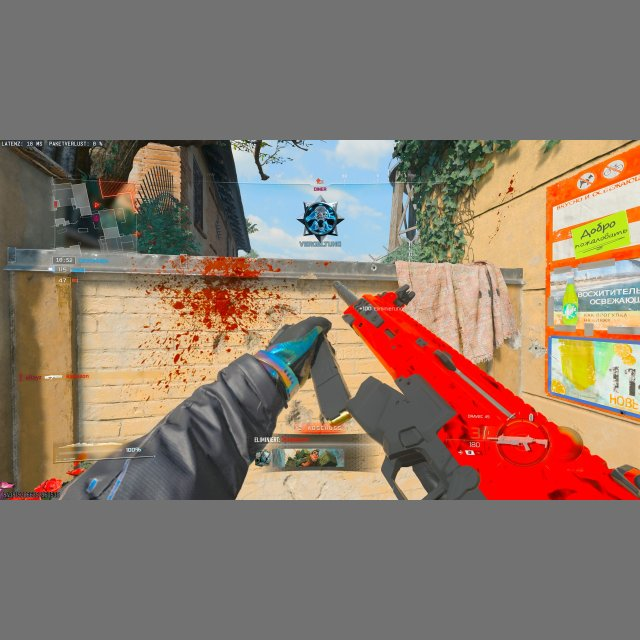player: (300, 200, 344, 244)
